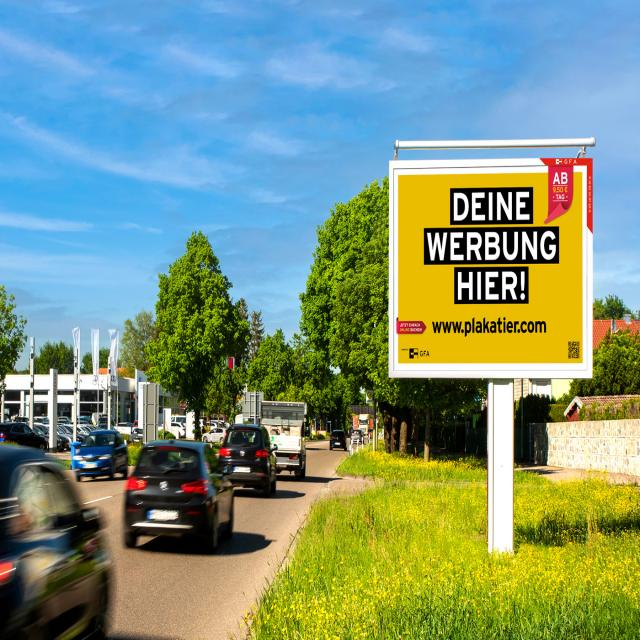Werbetafel frei: (383, 156, 598, 386)
